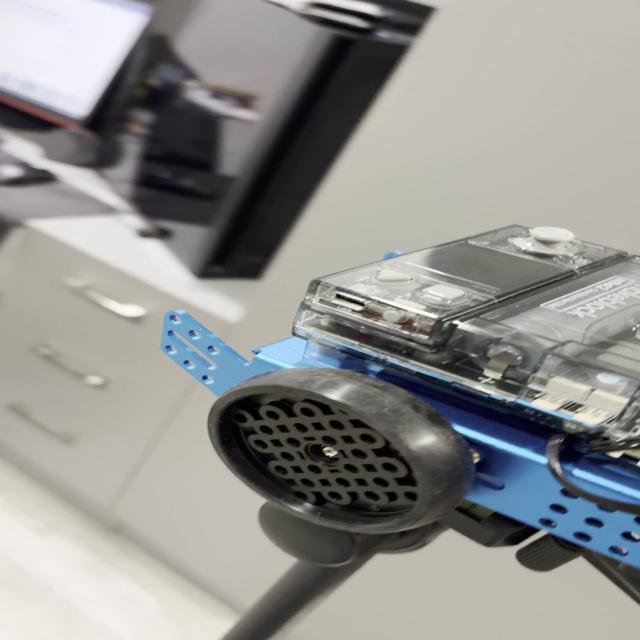mbot-detection: (142, 212, 640, 578)
